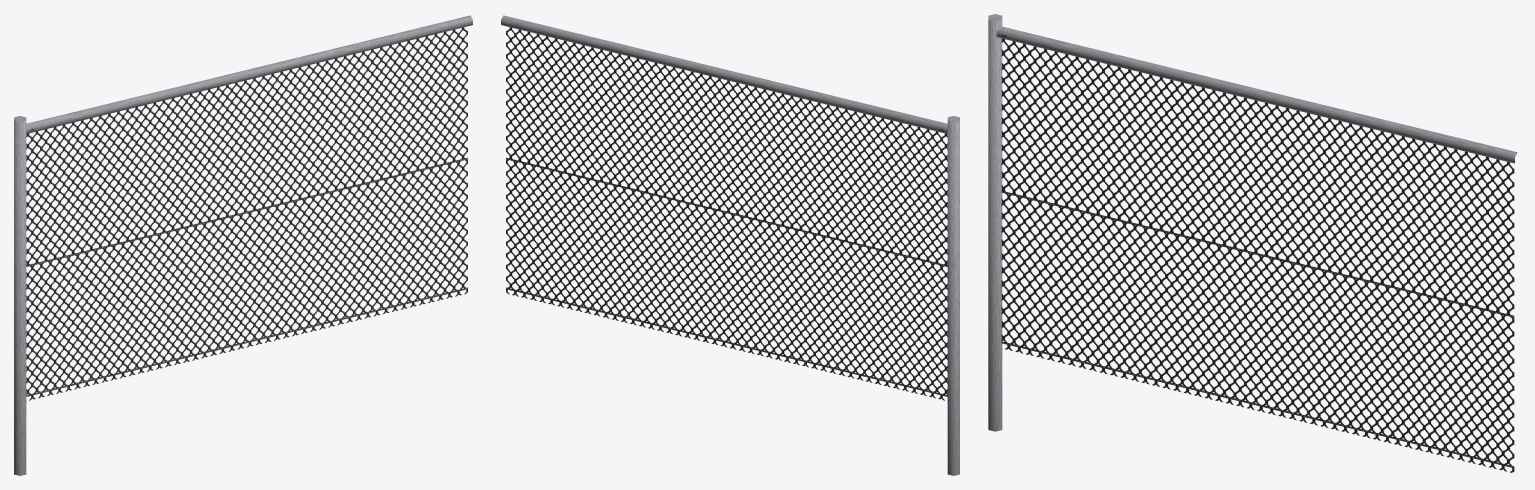
File: fence-tall-chainlink-1rail-start-1s-cbj_LOD01.gltf
The picture shows the model from 3 angles, left to right: view 1: azimuth 30°, elevation 25°; view 2: azimuth 150°, elevation 25°; view 3: azimuth 330°, elevation 25°; orthographic projection. The views are drawn at different scales.
Parts seen in each view (by area): view 1: cube01; view 2: cube01; view 3: cube01.
Part boxes in pixels (bbox=[...]): cube01: bbox=[14, 15, 472, 475]; cube01: bbox=[501, 15, 959, 475]; cube01: bbox=[988, 14, 1517, 472].
Bounding box in the file's own units: 3.14 × 2.33 × 0.0727.
